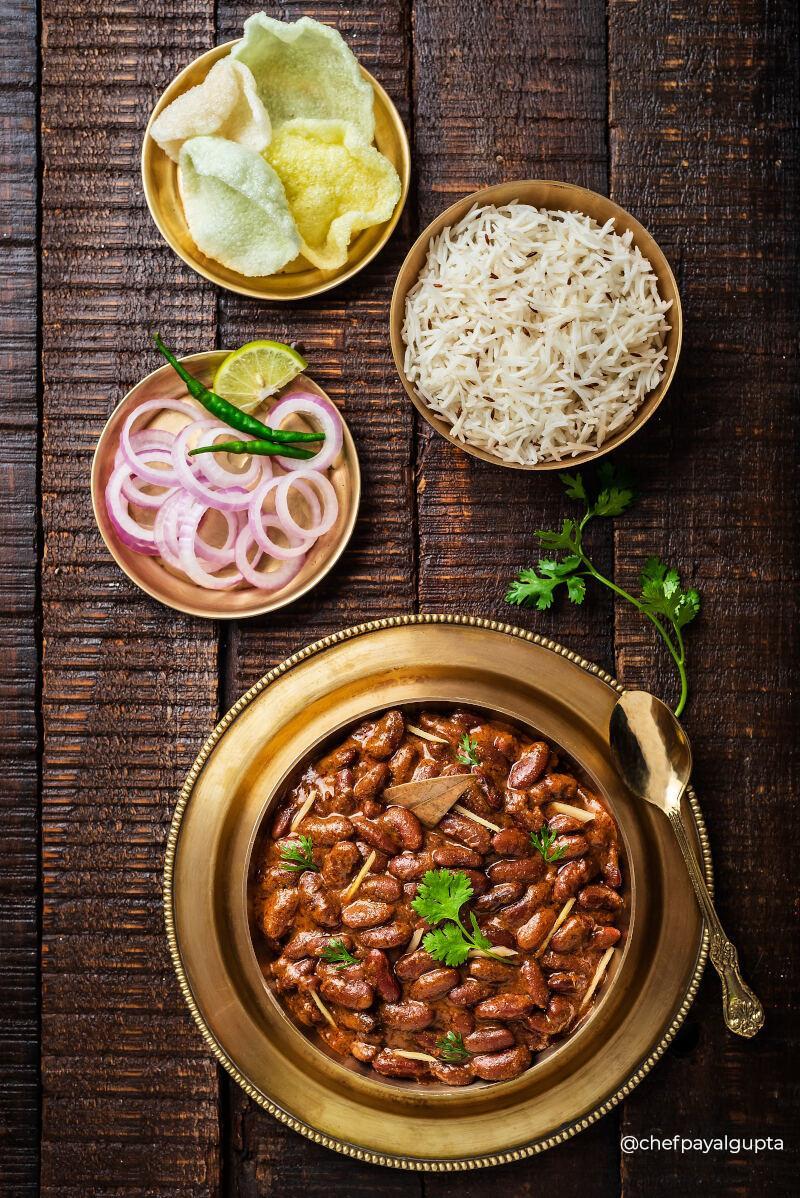rajma: (300, 737, 613, 1103)
rice: (420, 220, 647, 460)
